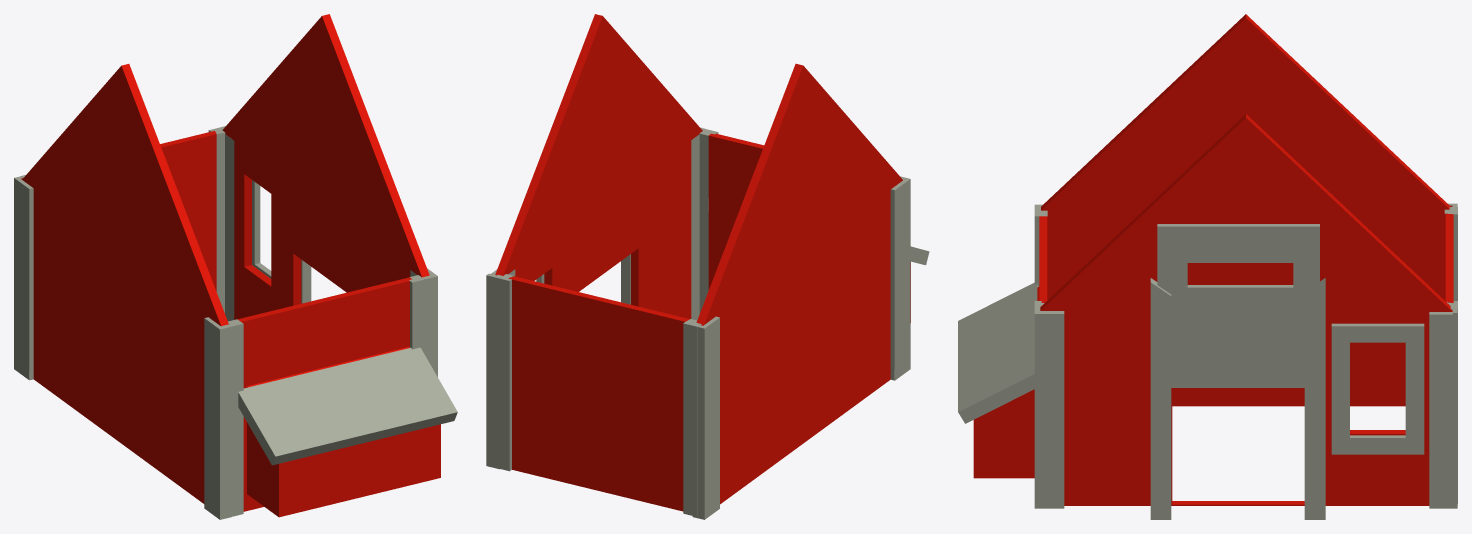
Rendered from paredes.gltf.
The picture shows the model from 3 angles, left to right: view 1: azimuth 30°, elevation 25°; view 2: azimuth 150°, elevation 25°; view 3: azimuth 270°, elevation 25°; orthographic projection. The views are drawn at different scales.
Visible parts, largest first — view 1: paredes; view 2: paredes; view 3: paredes.
Part boxes in pixels (box(x1,y1,x2,y2)): paredes: box(14, 14, 457, 519); paredes: box(486, 14, 929, 519); paredes: box(958, 14, 1457, 519).
Size of the model in its own units: 1.57 by 2.6 by 2.97.
